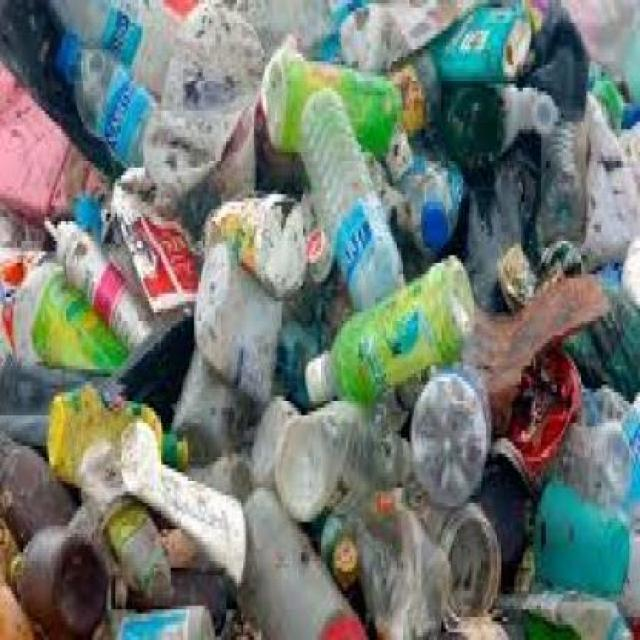garbage: (6, 23, 638, 622)
